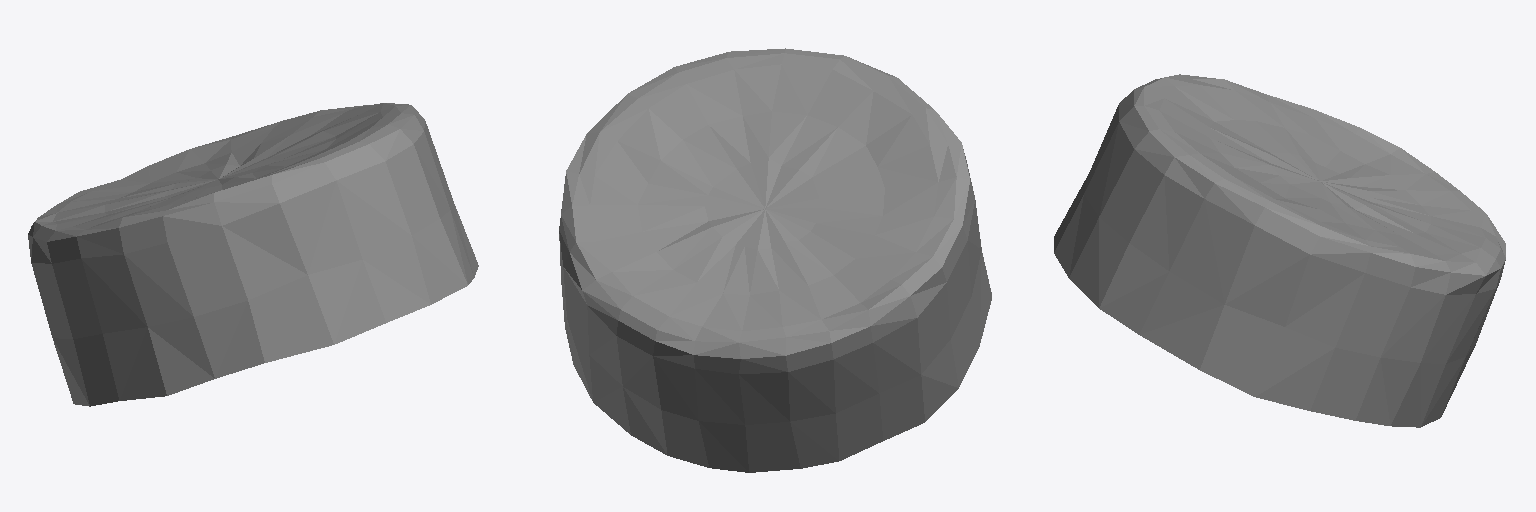
File: right_home_button.obj
The picture shows the model from 3 angles: view 1: azimuth 30°, elevation 25°; view 2: azimuth 150°, elevation 25°; view 3: azimuth 270°, elevation 25°; orthographic projection.
Parts seen in each view (by area): view 1: right_home_button; view 2: right_home_button; view 3: right_home_button.
Boxes of the visible parts, x1,y1,x2,y2 form: right_home_button: [28, 103, 478, 406]; right_home_button: [559, 48, 991, 472]; right_home_button: [1054, 74, 1505, 427].
Size of the model in its own units: 0.0088 by 0.0065 by 0.009.